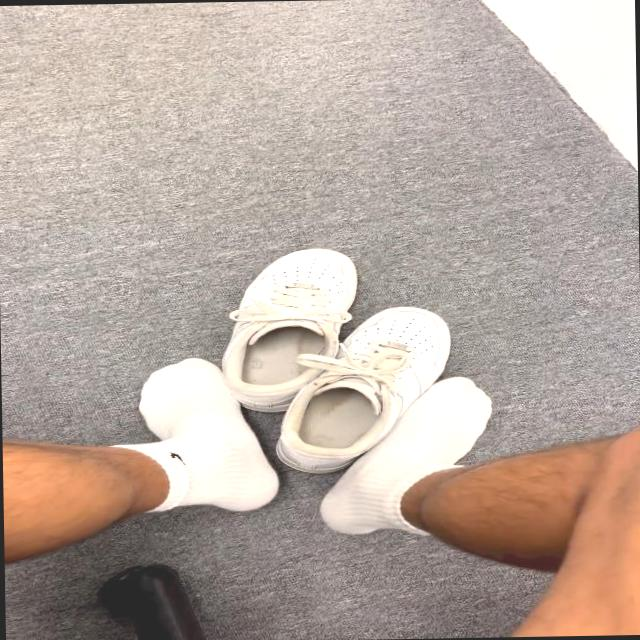nike_original_airforce: (276, 304, 468, 476), (215, 244, 366, 412)
